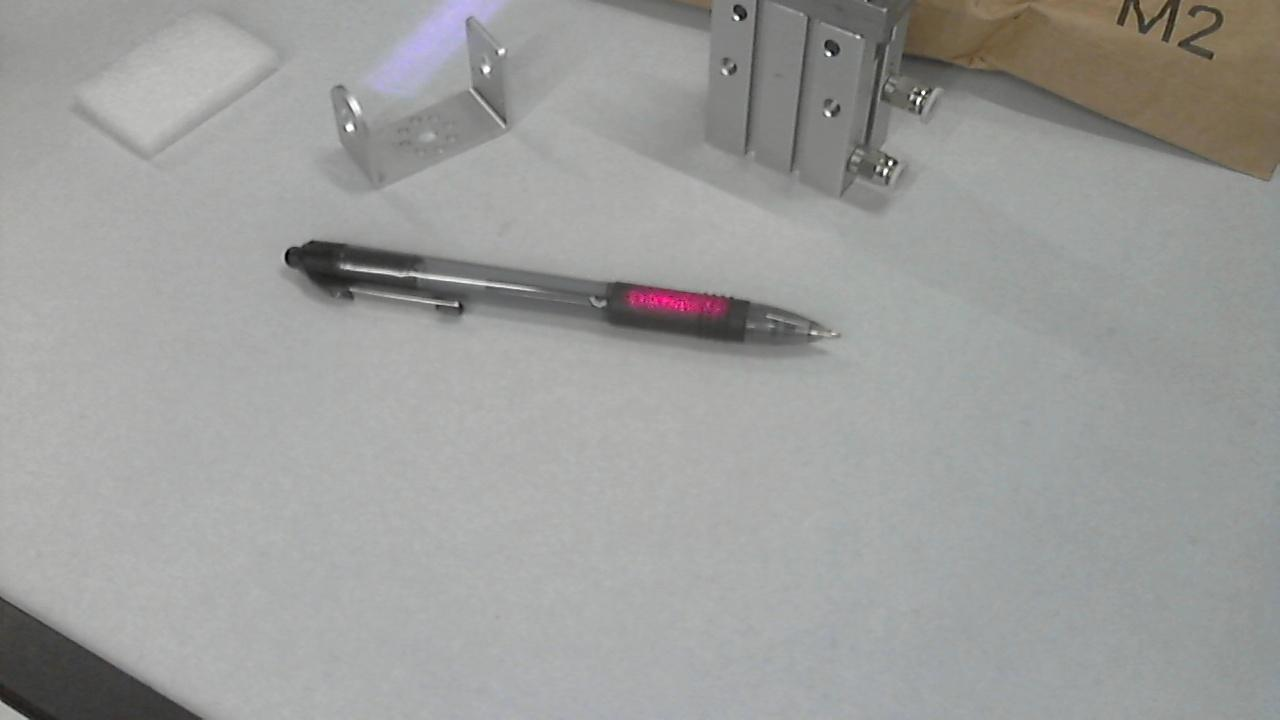Object retractable gel pen - Material rubber - Pdfname asdasdaswe: (603, 281, 743, 322)
